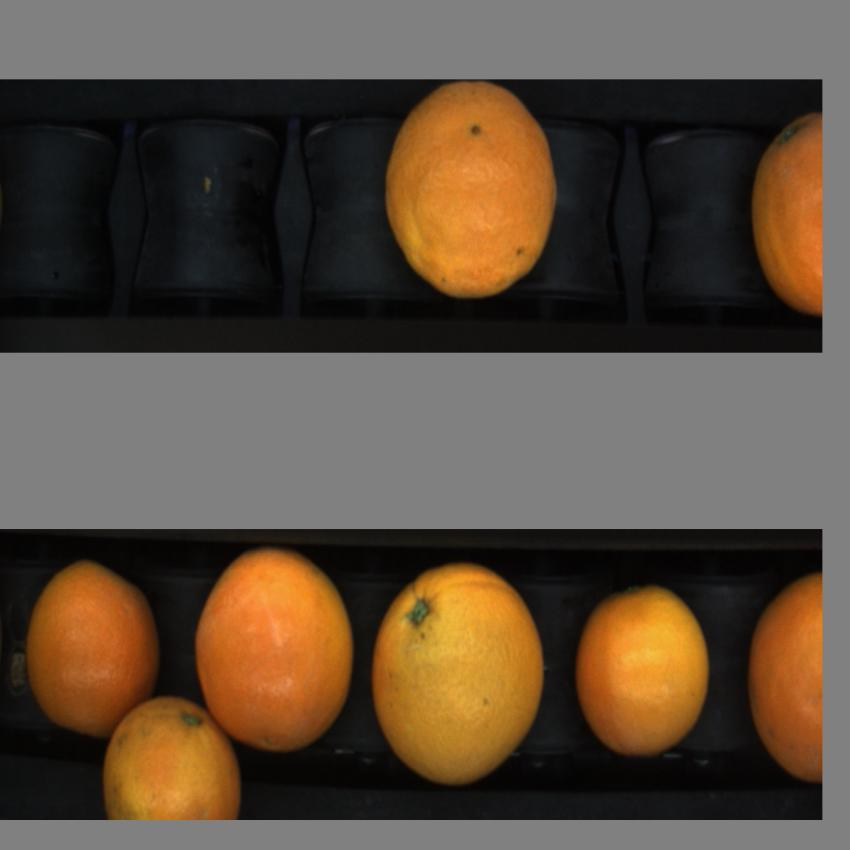Buen estado: (369, 562, 545, 788), (381, 76, 563, 294), (195, 546, 356, 758), (572, 574, 716, 760), (23, 559, 162, 741), (101, 689, 244, 833), (740, 562, 822, 781), (747, 103, 822, 324)
